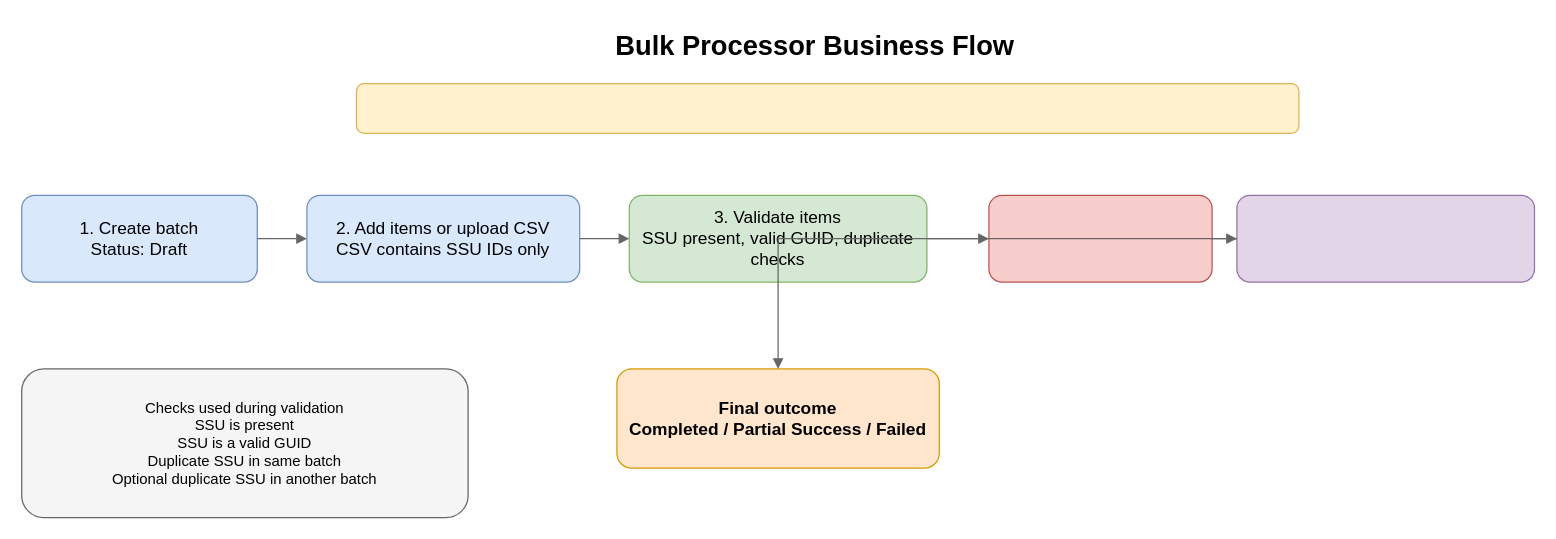
This 1556x539 diagram has some shape labels left out. Each missing label, with the box of its shape:
4. Submit batch Status: Queued: (988, 194, 1212, 282)
5. Timer processes valid items Creates requests and jobs: (1236, 194, 1534, 282)
Batch reference is generated automatically and copied into the batch name.: (355, 82, 1299, 133)
